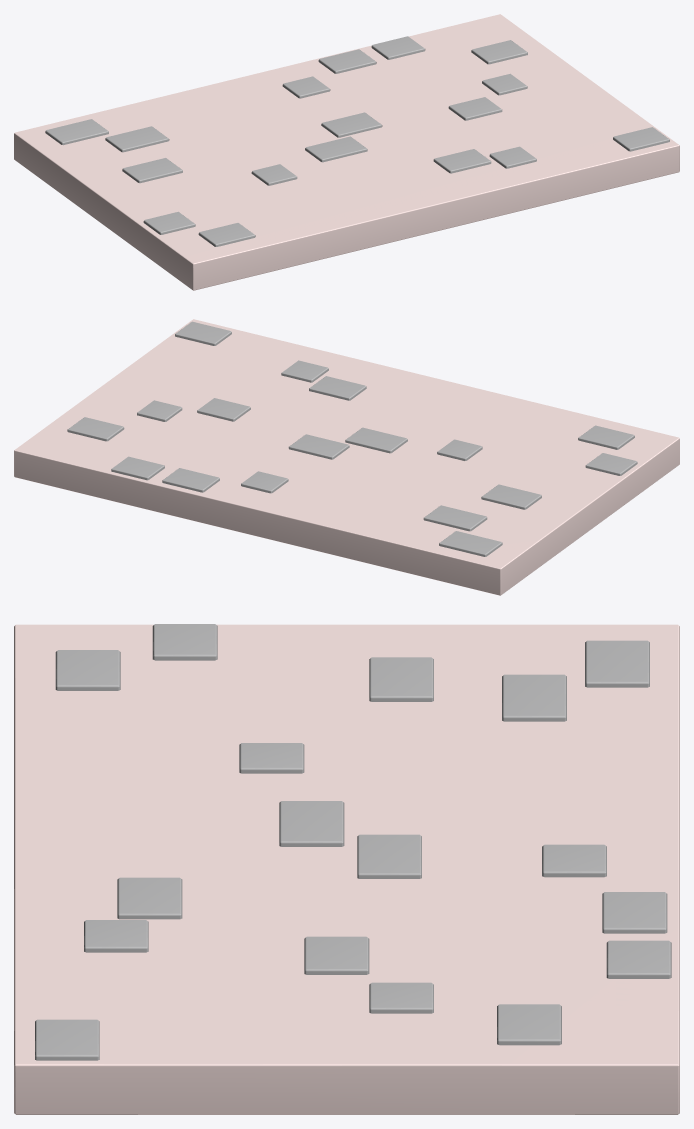
Rendered from Public_1_Base_1.glb.
3 views of the same model, one above another, from view 1: azimuth 30°, elevation 25°; view 2: azimuth 150°, elevation 25°; view 3: azimuth 270°, elevation 25° (orthographic). The views are drawn at different scales.
Visible parts, largest first — view 1: Public_1_Base_1; view 2: Public_1_Base_1; view 3: Public_1_Base_1.
Part boxes in pixels (x1,y1,x2,y2): Public_1_Base_1: (14, 14, 679, 290); Public_1_Base_1: (14, 319, 679, 595); Public_1_Base_1: (14, 624, 679, 1114).
Size of the model in its own units: 23.41 by 1.4 by 14.94.
Materials: 1 (1 with a texture image).
